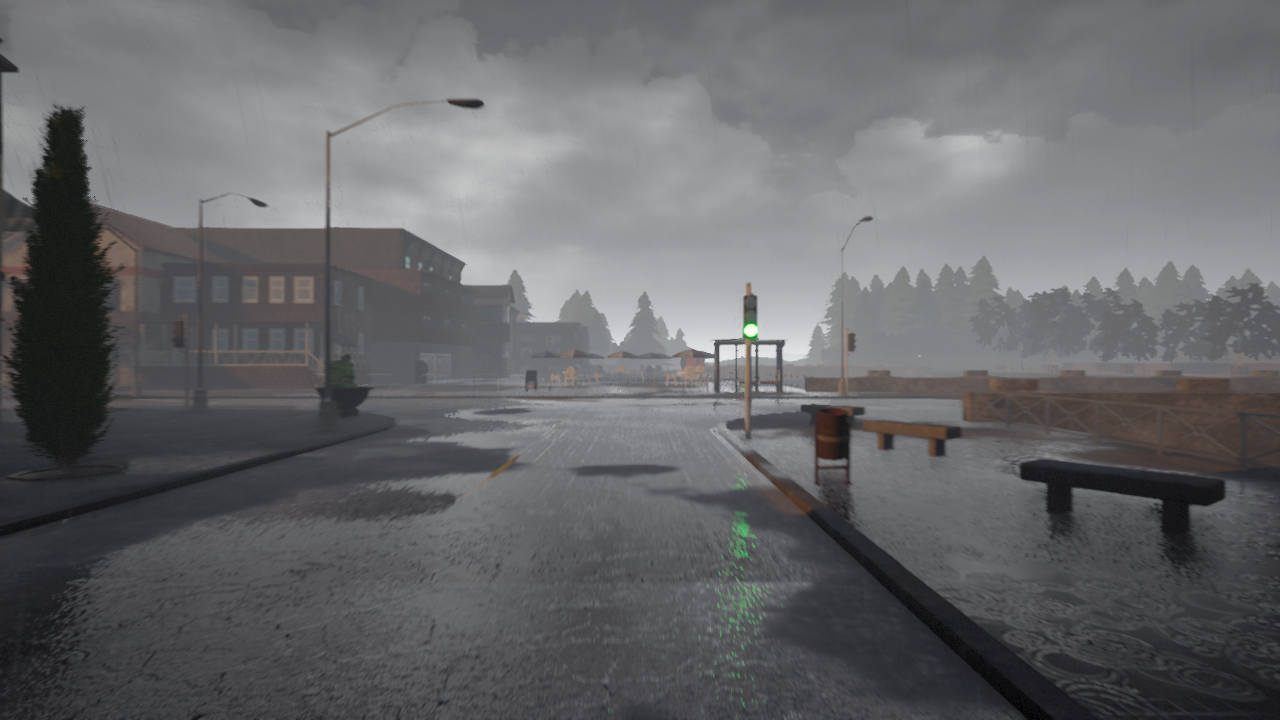green: (741, 294, 759, 338)
